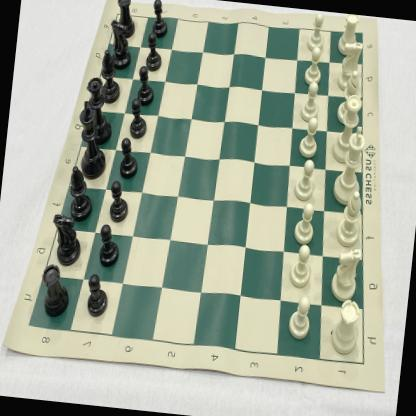black-bishop: (66, 166, 96, 221), (97, 49, 124, 104)
black-king: (70, 100, 112, 180)
black-pawn: (84, 270, 111, 320), (126, 94, 150, 140), (96, 222, 120, 268), (107, 176, 130, 223), (118, 134, 140, 179), (135, 64, 158, 106), (143, 30, 165, 72), (149, 0, 171, 39)
black-queen: (80, 74, 112, 137)
black-rook: (37, 262, 74, 319), (48, 210, 84, 268), (107, 18, 135, 68), (112, 0, 137, 39)
white-bishop: (335, 186, 366, 246), (335, 69, 363, 124)
white-king: (331, 123, 368, 206)
white-knight: (329, 243, 363, 303), (335, 40, 363, 92)
white-pawn: (287, 242, 318, 289), (286, 295, 316, 341), (292, 157, 320, 203), (296, 116, 324, 160), (292, 202, 321, 244), (299, 80, 323, 122), (302, 46, 326, 86), (306, 12, 329, 51)
white-queen: (330, 92, 364, 164)
white-rook: (328, 295, 364, 356), (336, 13, 362, 57)
